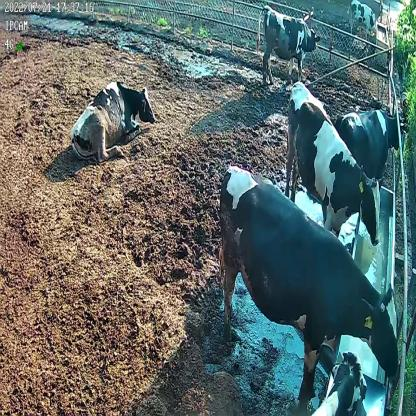cow: (216, 161, 402, 412), (283, 80, 385, 248), (70, 79, 155, 163), (257, 4, 319, 86), (334, 110, 405, 180)
